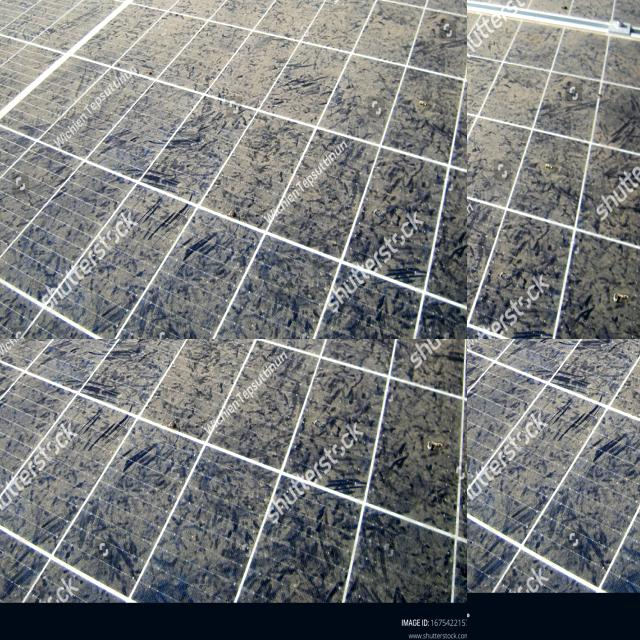crack: (467, 0, 614, 121), (467, 5, 553, 109), (467, 0, 533, 109), (467, 0, 528, 87), (467, 0, 538, 52), (467, 0, 508, 42)
dust: (467, 339, 560, 548), (467, 339, 640, 405), (511, 339, 640, 374), (619, 433, 640, 571), (467, 339, 513, 401), (0, 0, 25, 8), (0, 0, 24, 8), (0, 0, 26, 7), (0, 0, 14, 10), (0, 0, 11, 12), (0, 339, 12, 350), (0, 339, 11, 350), (0, 339, 10, 351), (0, 0, 6, 15), (0, 0, 11, 8), (0, 0, 16, 5), (0, 0, 8, 10), (0, 339, 10, 347), (0, 339, 7, 350), (0, 0, 6, 12), (0, 0, 7, 10), (0, 339, 6, 349), (0, 339, 10, 345), (0, 0, 6, 8), (0, 339, 7, 345), (0, 339, 7, 344), (0, 0, 8, 3)
